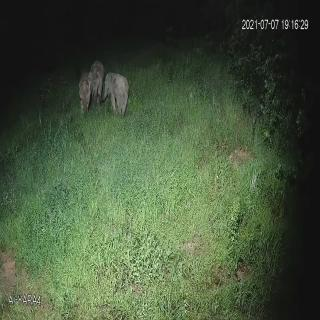Elephant: (102, 67, 135, 120), (88, 57, 105, 108), (76, 66, 92, 117)
